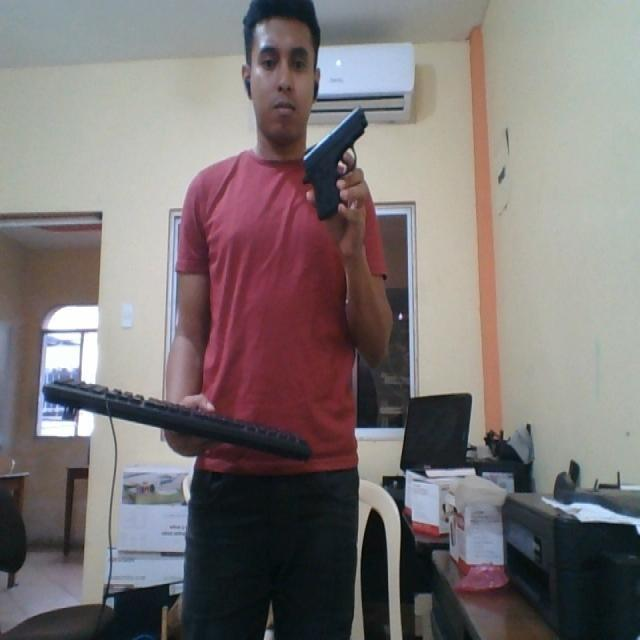weapon: (296, 100, 374, 233)
